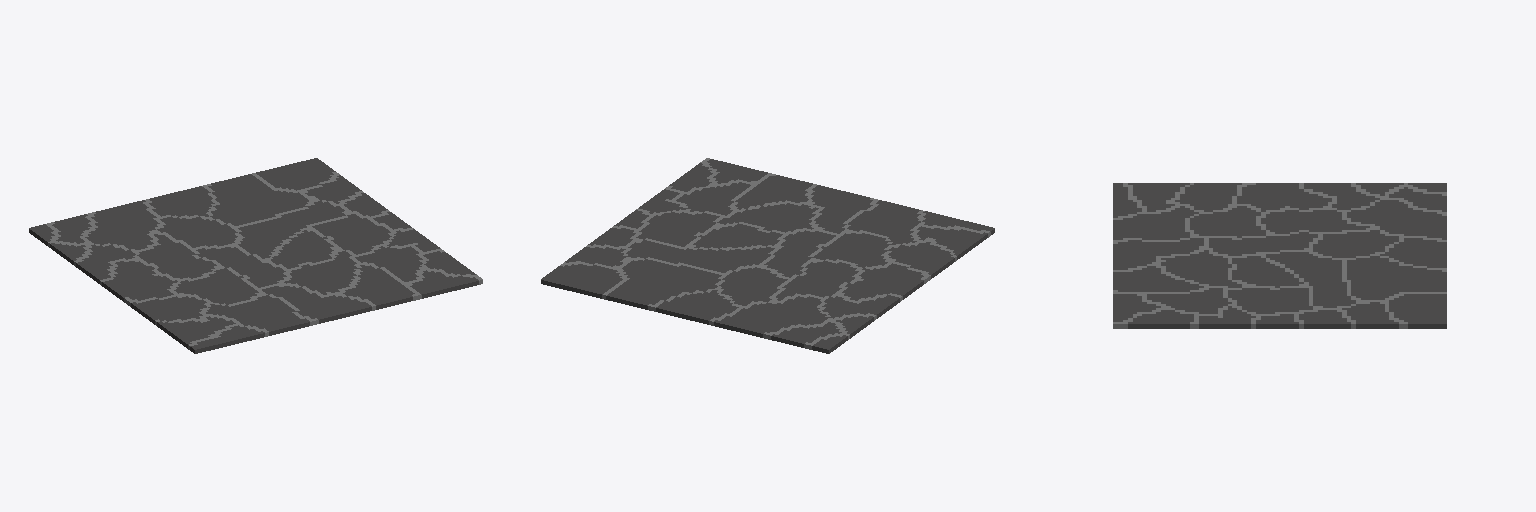
3 renders of one model, left to right at view 1: azimuth 30°, elevation 25°; view 2: azimuth 150°, elevation 25°; view 3: azimuth 270°, elevation 25°, orthographic.
Visible parts, largest first — view 1: object 1; view 2: object 1; view 3: object 1.
Part boxes in pixels (left/top/right/bottom): object 1: left=29, top=158, right=482, bottom=353; object 1: left=541, top=158, right=994, bottom=353; object 1: left=1113, top=183, right=1446, bottom=328.
Bounding box in the file's own units: 7 × 0.1 × 7.
Materials: 1 (1 with a texture image).